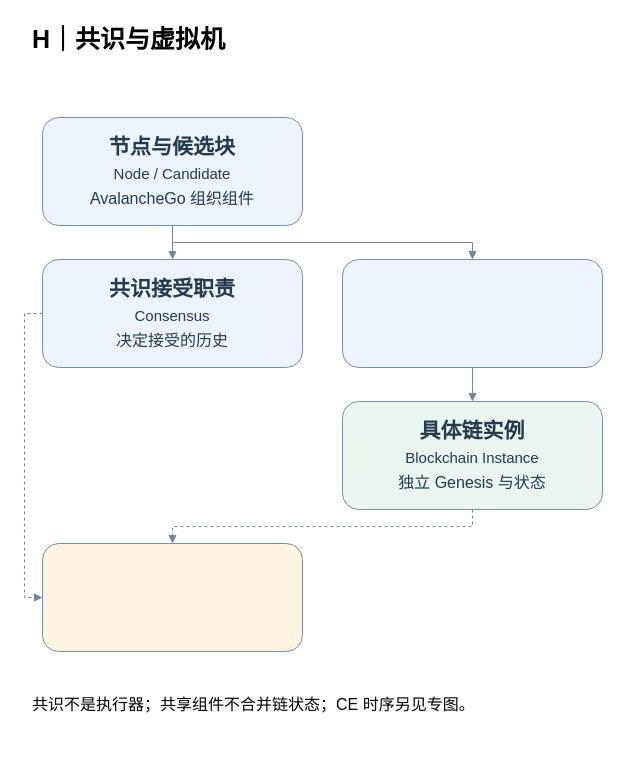
The diagram is 632 pixels wide and 775 high, and some of its shapes have lost their labels. Here are the shapes that lost their labels. From the top down, the centre of each, then its label:
[472,313]: VM 状态规则 Virtual Machine 定义合法状态转换
[172,597]: 运行结果观察 Blocks / State / Results 时序依版本
